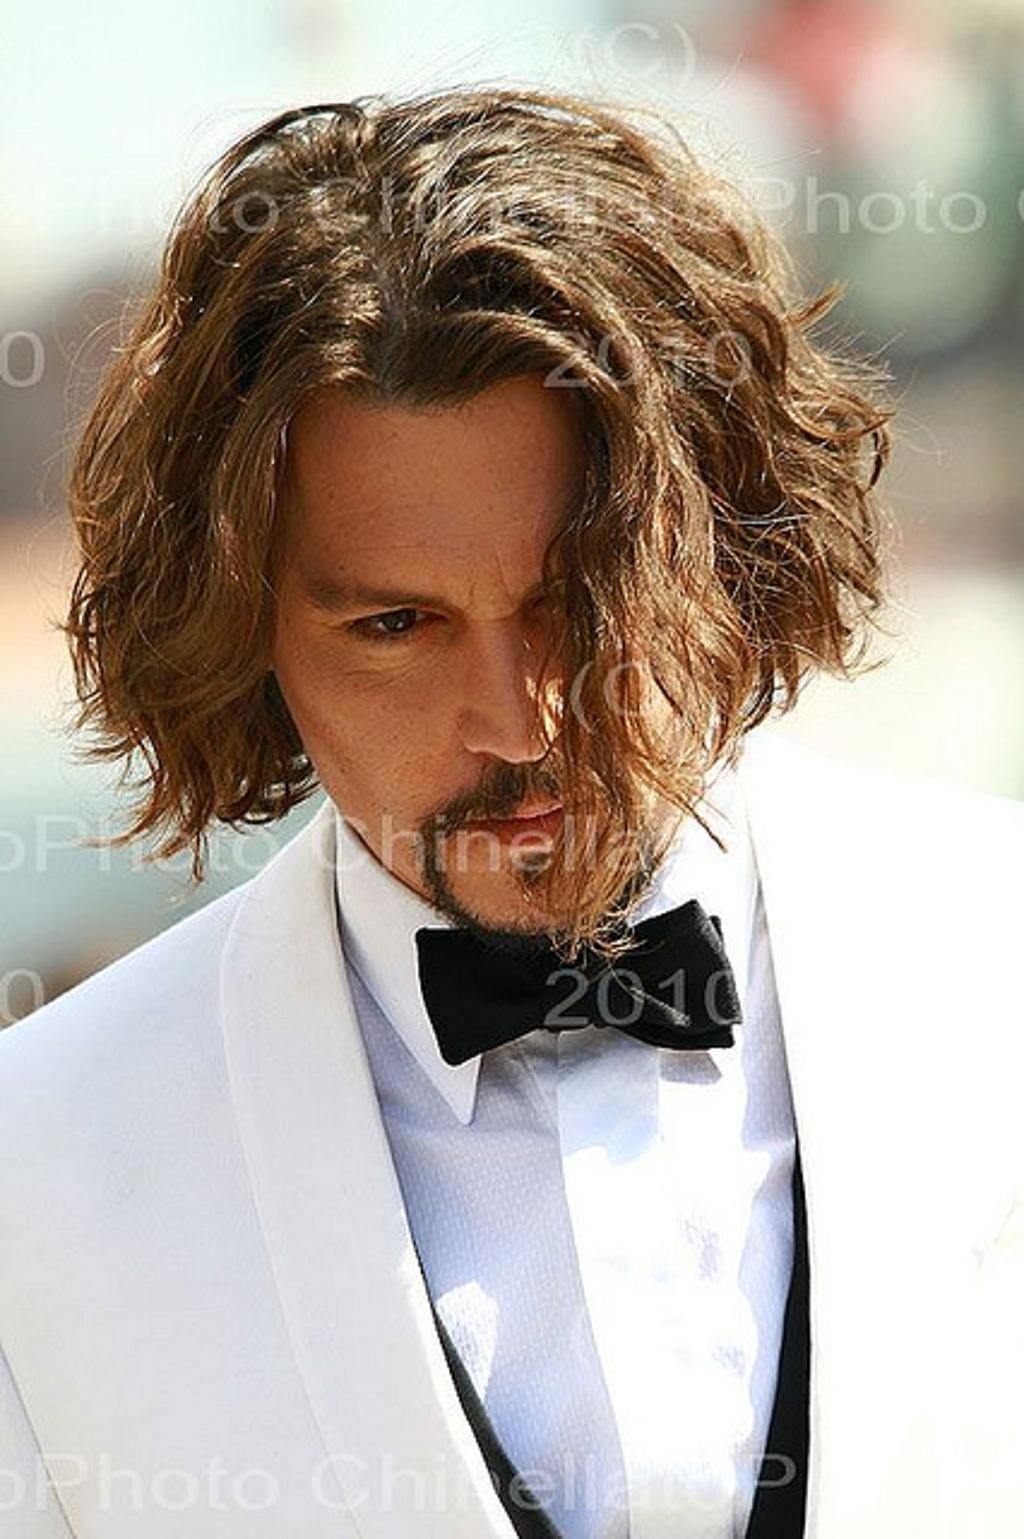face: (279, 372, 711, 928)
